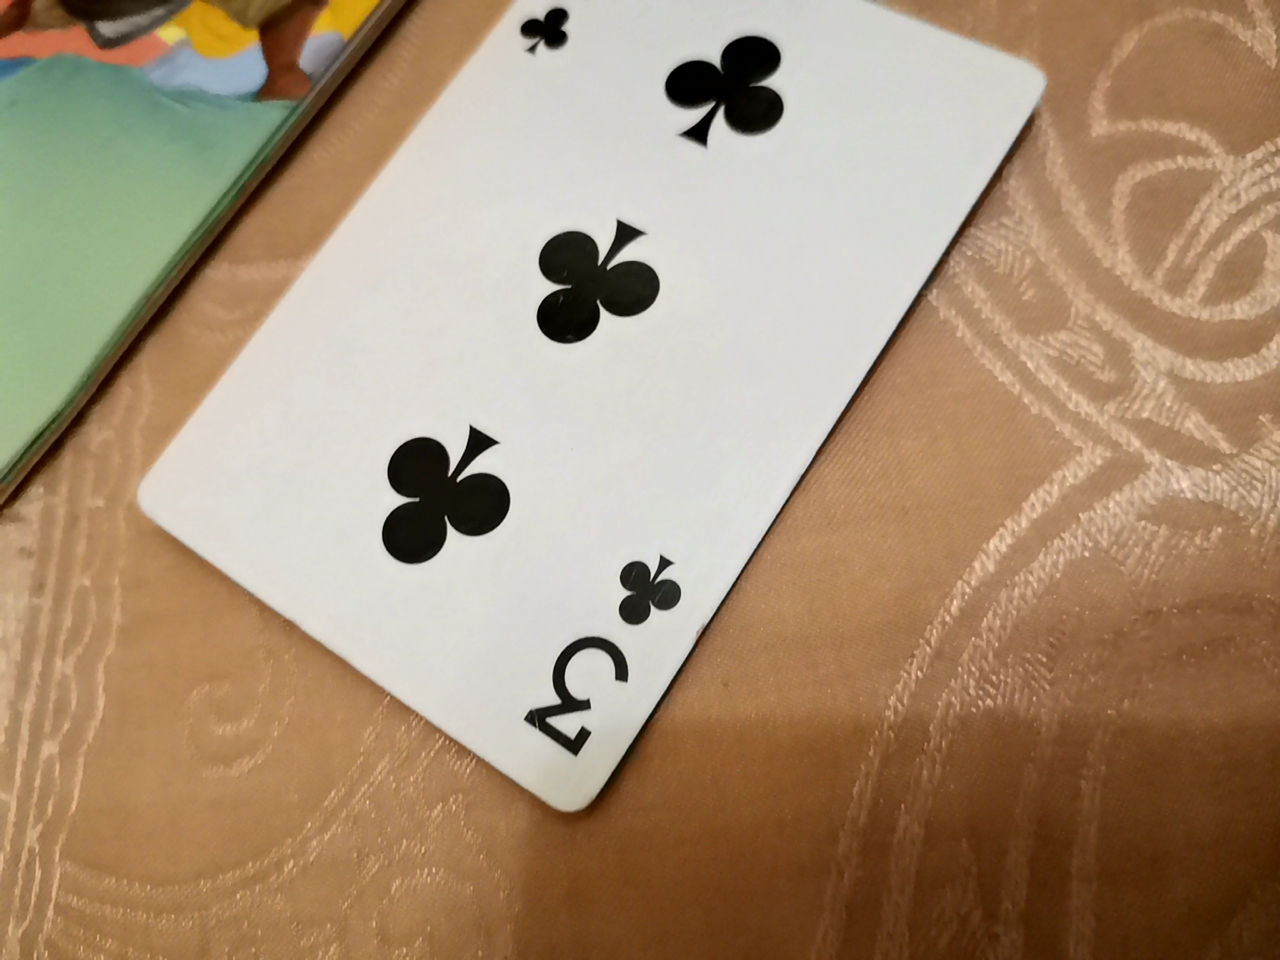mh 3: (116, 9, 1055, 847)
